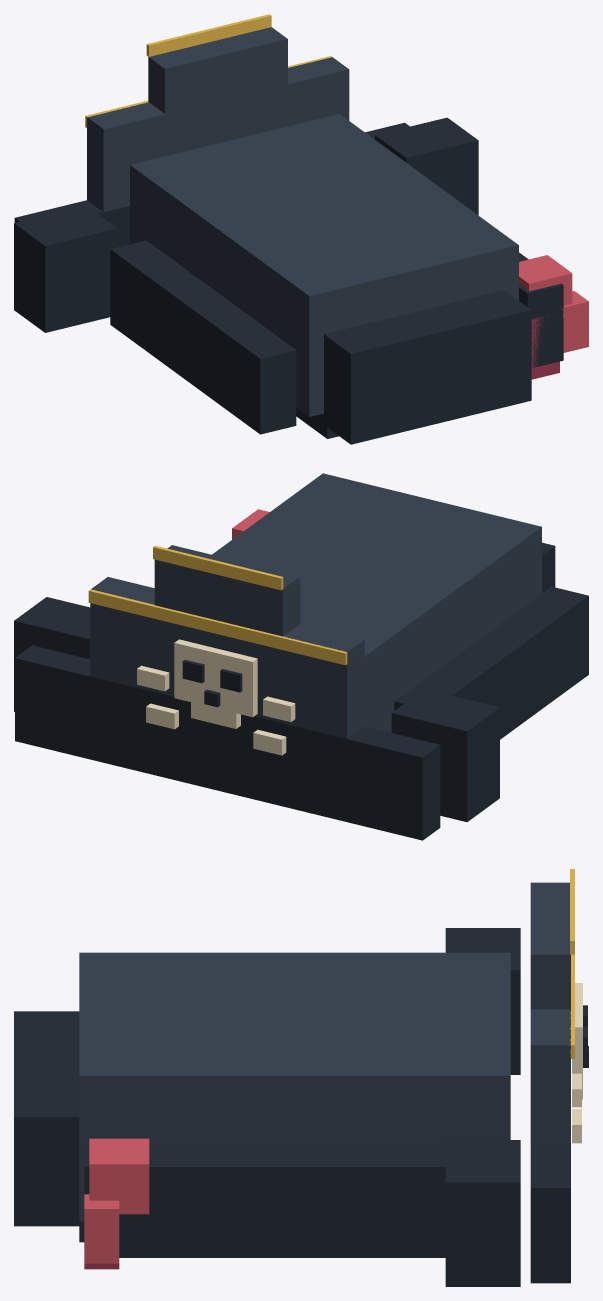
The model's file is pirate_hat.glb.
The picture shows the model from 3 angles, top to bottom: view 1: azimuth 30°, elevation 25°; view 2: azimuth 150°, elevation 25°; view 3: azimuth 270°, elevation 25°; orthographic projection. The views are drawn at different scales.
Parts seen in each view (by area): view 1: crown, rear_triangle, left_fold, front_peak, left_tip, front_peak_step, right_tip, right_fold, peak_gold_trim, red_knot, wide_front_fold, red_tail_short (+1 smaller); view 2: crown, wide_front_fold, front_peak, left_fold, left_tip, front_peak_step, skull, right_tip, front_gold_trim, peak_gold_trim, skull_chin, left_bone_low (+4 smaller); view 3: crown, right_fold, rear_triangle, right_tip, wide_front_fold, front_peak, front_peak_step, red_knot, left_tip, red_tail_short, skull.
Boxes of the visible parts, x1,y1,x2,y2 form: crown: [130, 114, 518, 416]; rear_triangle: [321, 290, 531, 444]; left_fold: [110, 240, 296, 434]; front_peak: [87, 57, 349, 212]; left_tip: [14, 205, 117, 332]; front_peak_step: [148, 27, 287, 114]; right_tip: [375, 117, 478, 215]; right_fold: [519, 252, 563, 368]; peak_gold_trim: [146, 14, 271, 56]; red_knot: [519, 255, 572, 305]; wide_front_fold: [14, 122, 409, 247]; red_tail_short: [560, 291, 588, 352]; crown: [212, 473, 541, 732]; wide_front_fold: [15, 645, 440, 840]; front_peak: [90, 577, 364, 738]; left_fold: [394, 586, 588, 739]; left_tip: [391, 689, 499, 821]; front_peak_step: [154, 545, 300, 636]; skull: [174, 639, 257, 717]; right_tip: [14, 597, 90, 711]; front_gold_trim: [88, 589, 347, 665]; peak_gold_trim: [153, 545, 283, 590]; skull_chin: [191, 701, 240, 728]; left_bone_low: [253, 729, 286, 755]; crown: [79, 952, 510, 1221]; right_fold: [84, 1145, 445, 1257]; rear_triangle: [14, 1011, 84, 1226]; right_tip: [445, 1140, 520, 1286]; wide_front_fold: [530, 1145, 570, 1283]; front_peak: [530, 1009, 570, 1145]; front_peak_step: [530, 882, 570, 1009]; red_knot: [89, 1138, 149, 1214]; left_tip: [445, 928, 520, 1074]; red_tail_short: [84, 1194, 119, 1263]; skull: [572, 983, 582, 1090].
Bounding box in the file's own units: 0.375 × 0.1969 × 0.3581.
